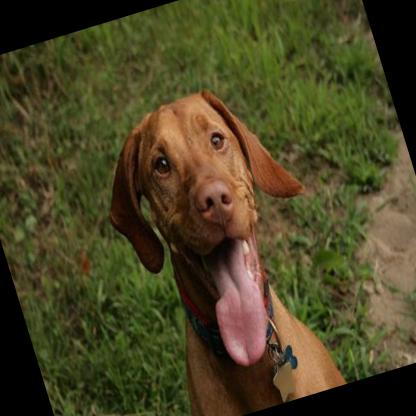vizsla: (80, 65, 365, 416)
